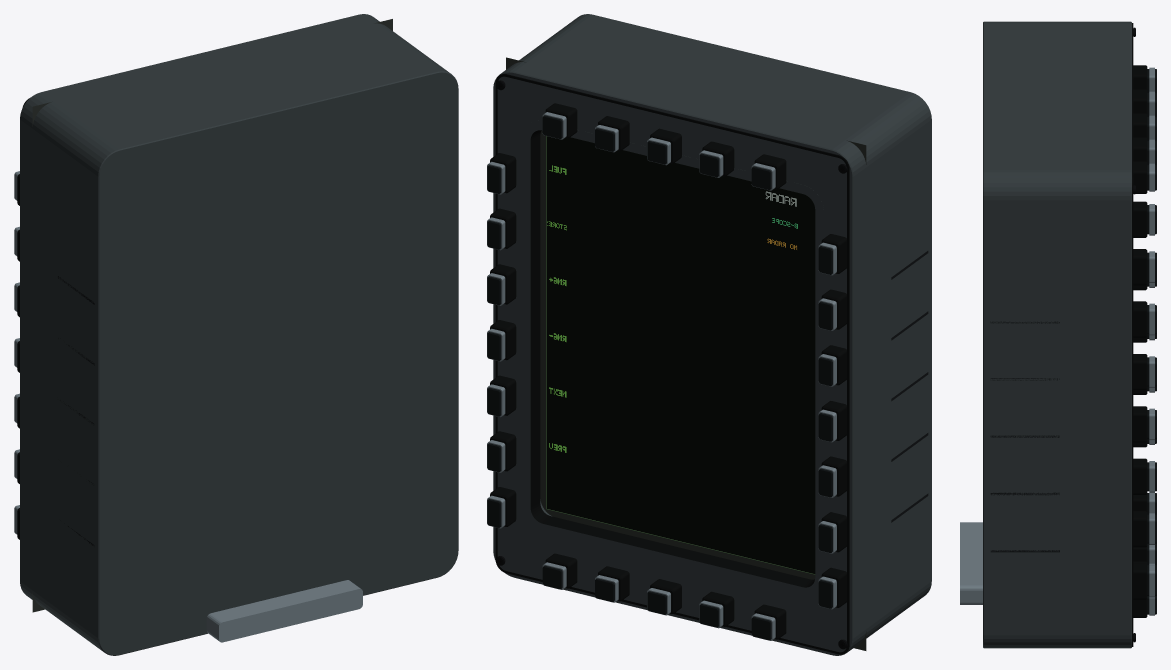
The model's file is MFDStudio.obj.
The picture shows the model from 3 angles, left to right: view 1: azimuth 30°, elevation 25°; view 2: azimuth 150°, elevation 25°; view 3: azimuth 270°, elevation 25°; orthographic projection. The views are drawn at different scales.
Visible parts, largest first — view 1: MFDStudioBody; view 2: MFDStudioBody, MFDStudioScreen; view 3: MFDStudioBody.
Boxes of the visible parts, x1=… form: MFDStudioBody: x1=14, y1=14, x2=458, y2=655; MFDStudioBody: x1=487, y1=14, x2=931, y2=655; MFDStudioScreen: x1=506, y1=57, x2=866, y2=650; MFDStudioBody: x1=960, y1=21, x2=1154, y2=648.
Size of the model in its own units: 0.205 by 0.275 by 0.103.
8 materials, 1 textured.
